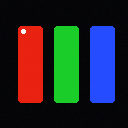0 point: (21, 29, 25, 33)
